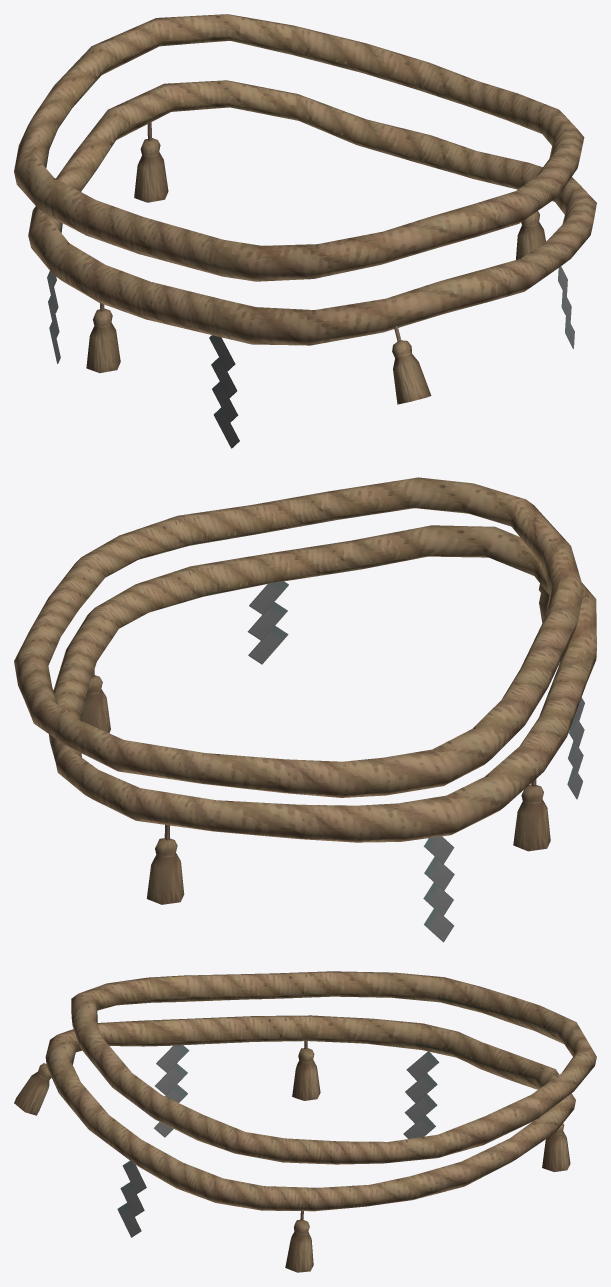
Rendered from Homeworld_Exterior_Dq_Build_Decoration_Sakura_01_C_Vo.fbx.
3 views of the same model, one above another, from view 1: azimuth 30°, elevation 25°; view 2: azimuth 150°, elevation 25°; view 3: azimuth 270°, elevation 25° (orthographic). The views are drawn at different scales.
Parts seen in each view (by area): view 1: Homeworld_Exterior_Dq_Build_Decoration_Sakura_01_C_Vo; view 2: Homeworld_Exterior_Dq_Build_Decoration_Sakura_01_C_Vo; view 3: Homeworld_Exterior_Dq_Build_Decoration_Sakura_01_C_Vo.
Part boxes in pixels (x1,y1,x2,y2): Homeworld_Exterior_Dq_Build_Decoration_Sakura_01_C_Vo: [14, 14, 596, 448]; Homeworld_Exterior_Dq_Build_Decoration_Sakura_01_C_Vo: [14, 477, 596, 942]; Homeworld_Exterior_Dq_Build_Decoration_Sakura_01_C_Vo: [14, 971, 596, 1272].
Size of the model in its own units: 1.84 by 0.9369 by 2.41.
